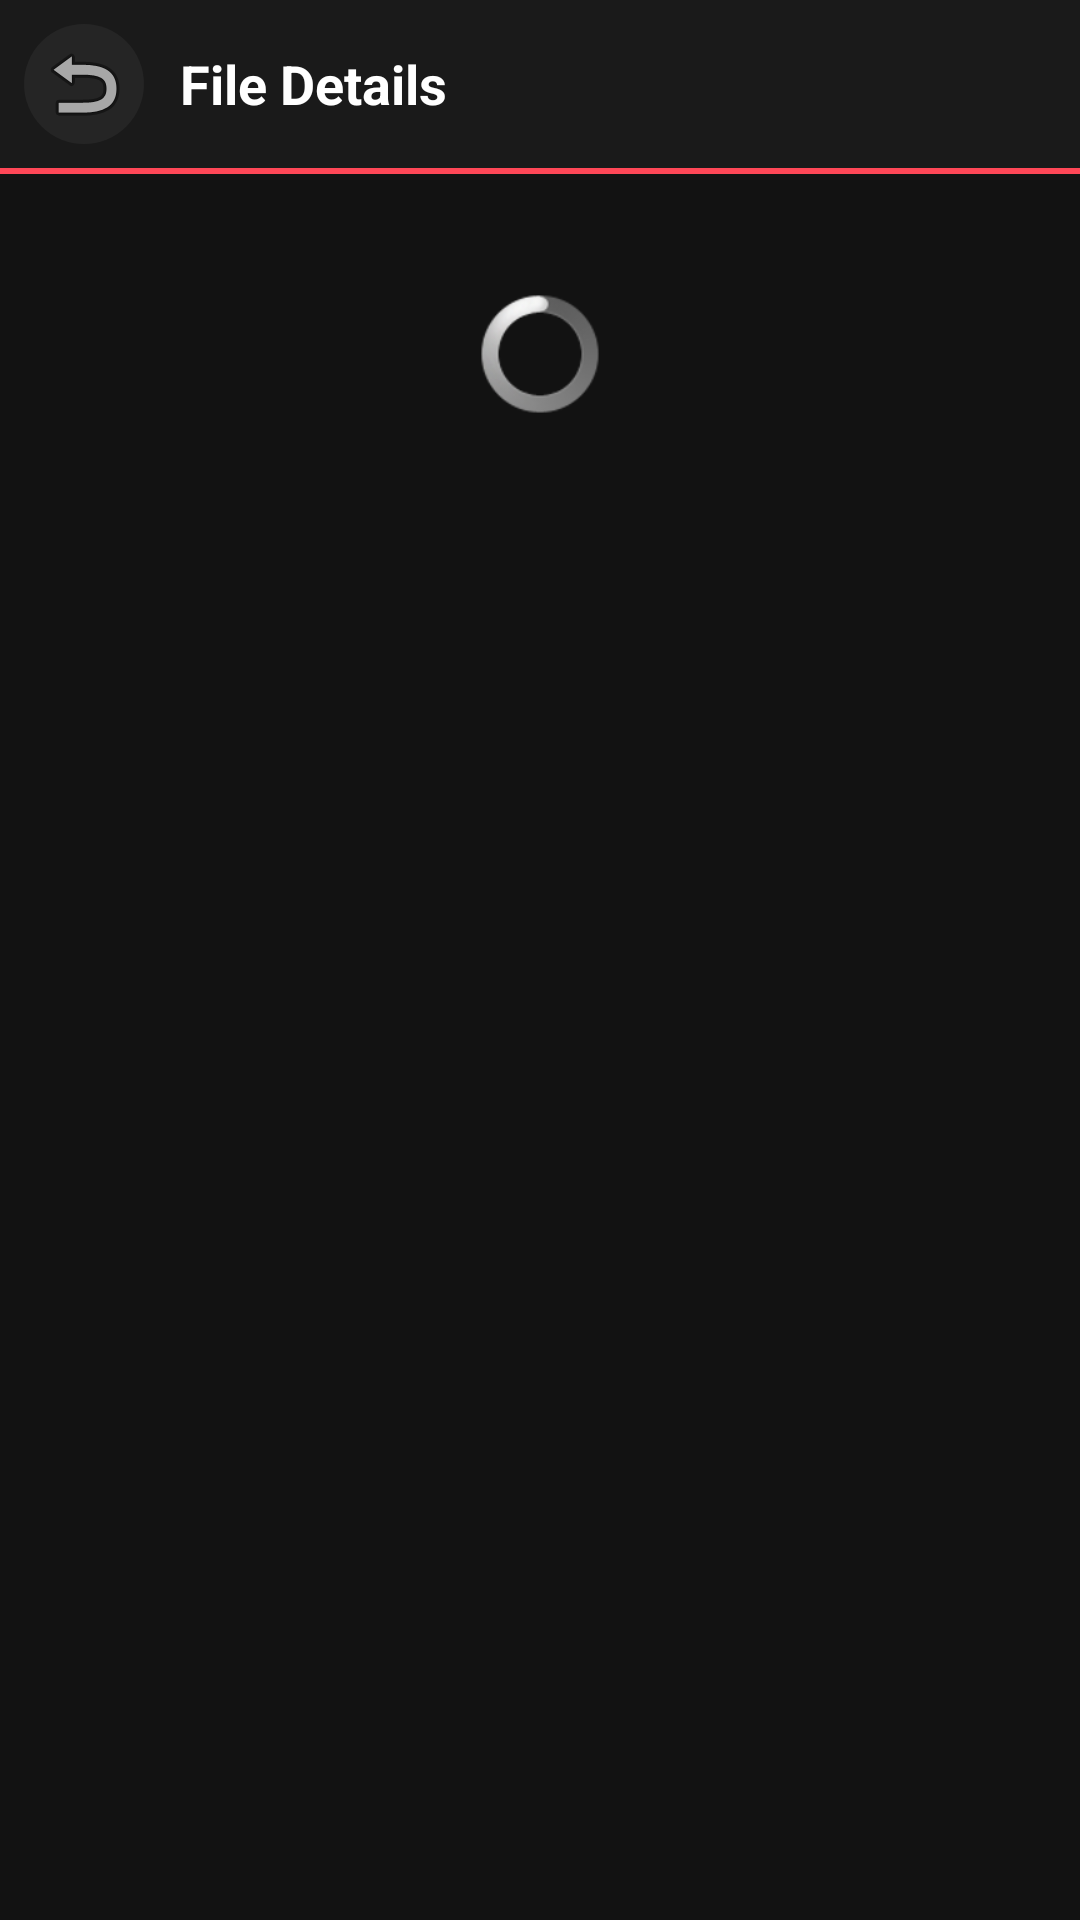

Icons on this 1080*1920 Android screen, each with its box as (x1, y1, x2, y2):
Go back: (24, 24, 144, 144)
